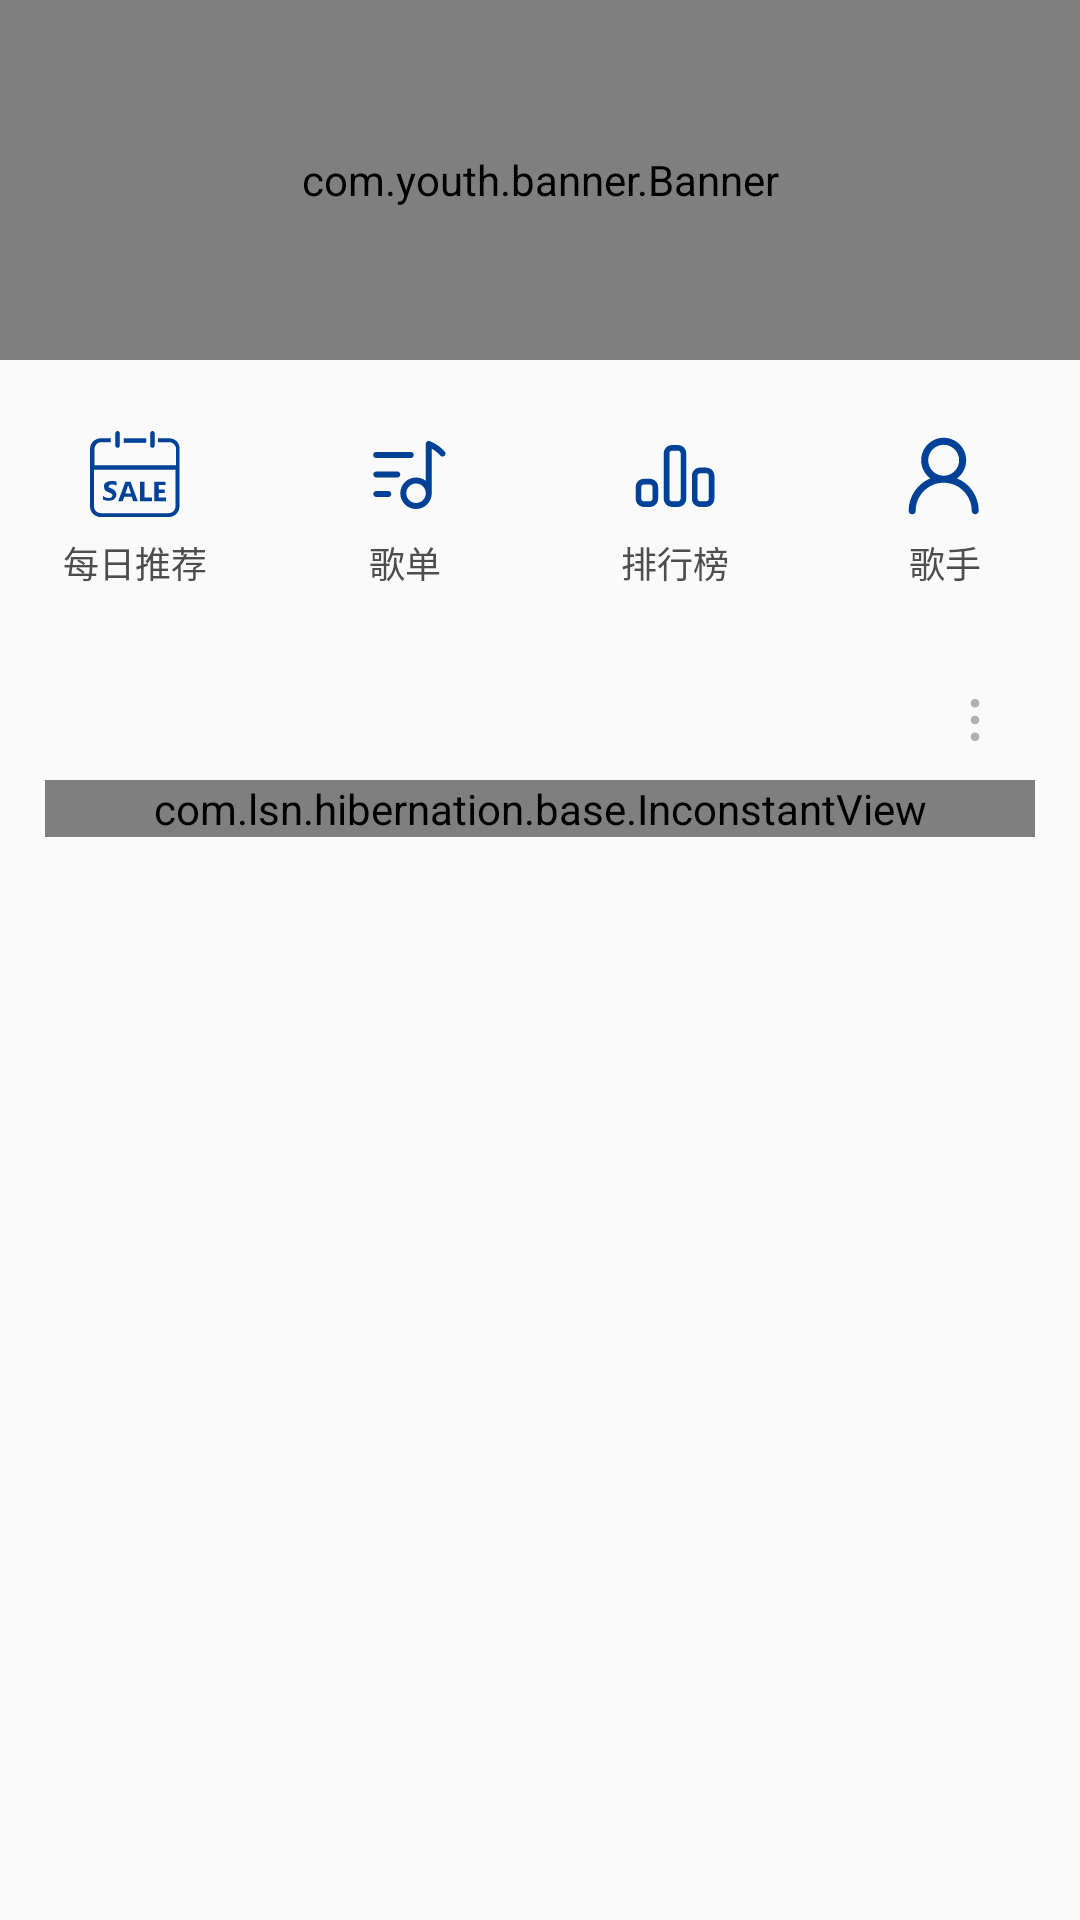

Icons on this 1080x1920 Android screen, each with its box as BBox(x1, y1, x2, y2):
other: BBox(971, 699, 979, 741)
